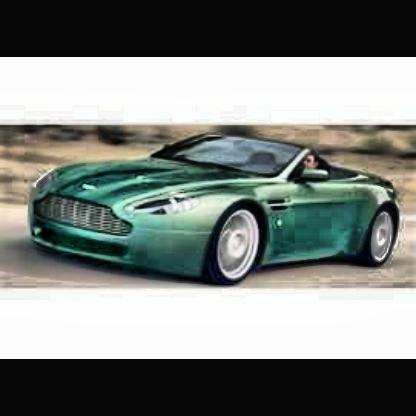Aston Martin V8 Vantage Convertible 2012: (30, 137, 401, 287)
